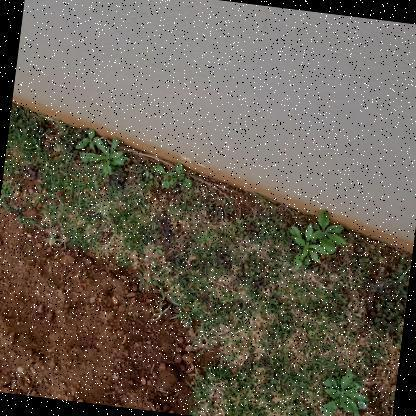Weeds: (316, 363, 373, 415), (284, 220, 337, 274), (79, 133, 130, 178), (308, 208, 350, 254), (75, 125, 106, 156), (150, 162, 178, 190), (169, 160, 195, 189)
